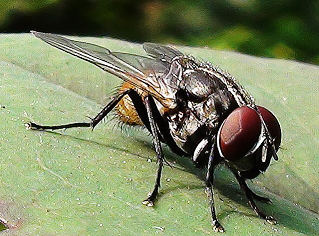fly: (20, 27, 280, 233)
